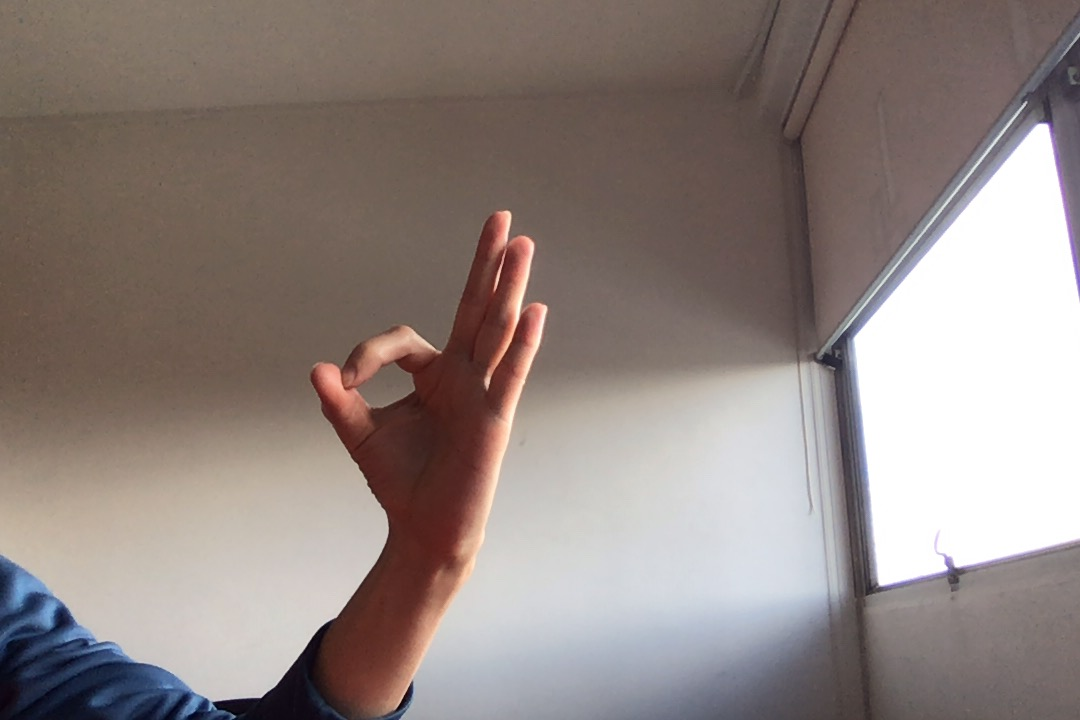oksign: (307, 205, 561, 555)
